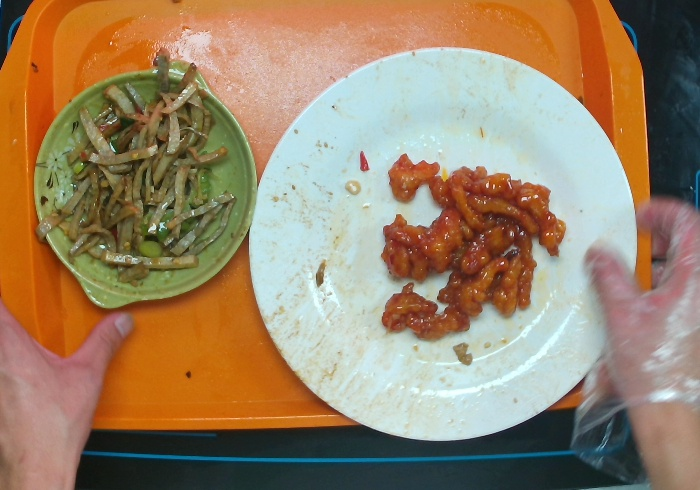NLDX-Da_Yuan_Pan: (244, 42, 644, 448)
NLDX-Lv_Hua_Shuang_Er_Die: (28, 57, 260, 315)
